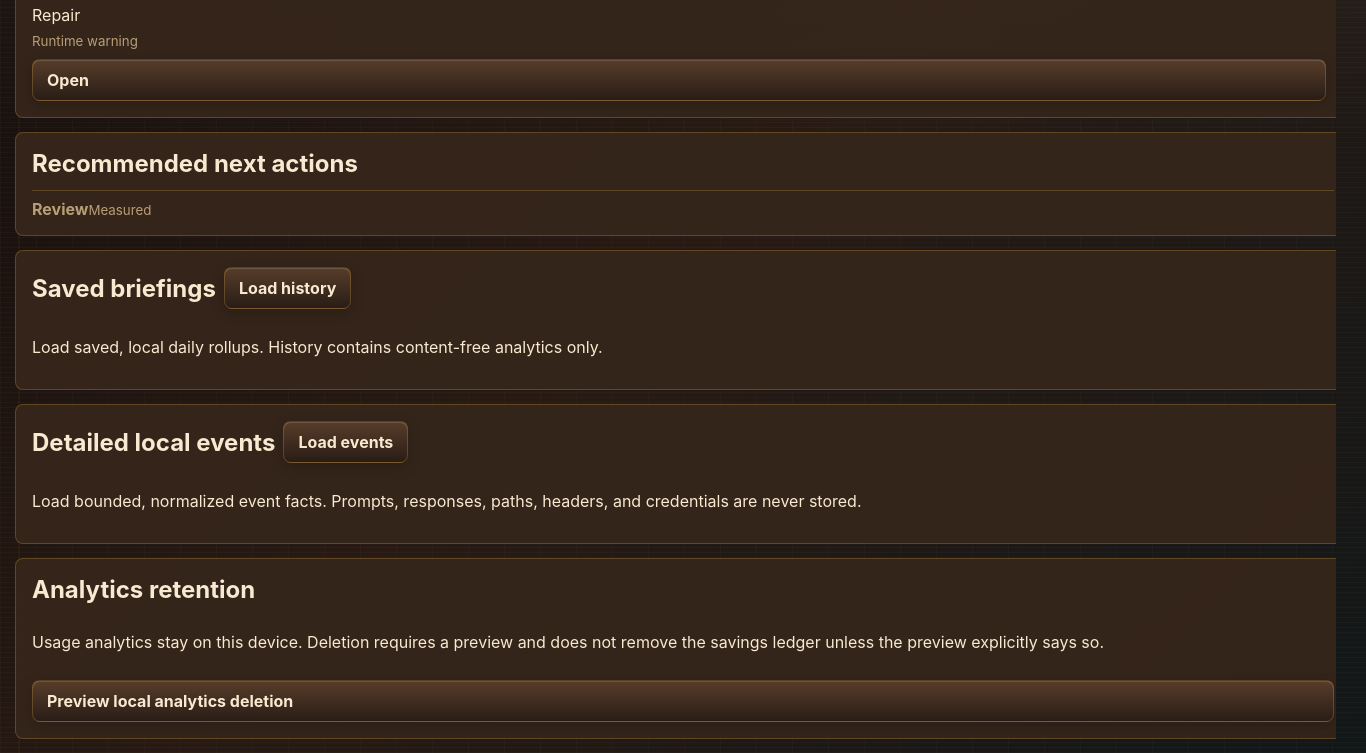
Test: DailyUsageBriefingView scenarios › reports preview and deletion failures without pretending data changed
(page scrolled)
Click the button "Preview local analytics deletion" at (170, 701), box [32, 680, 1334, 722]
(page scrolled)
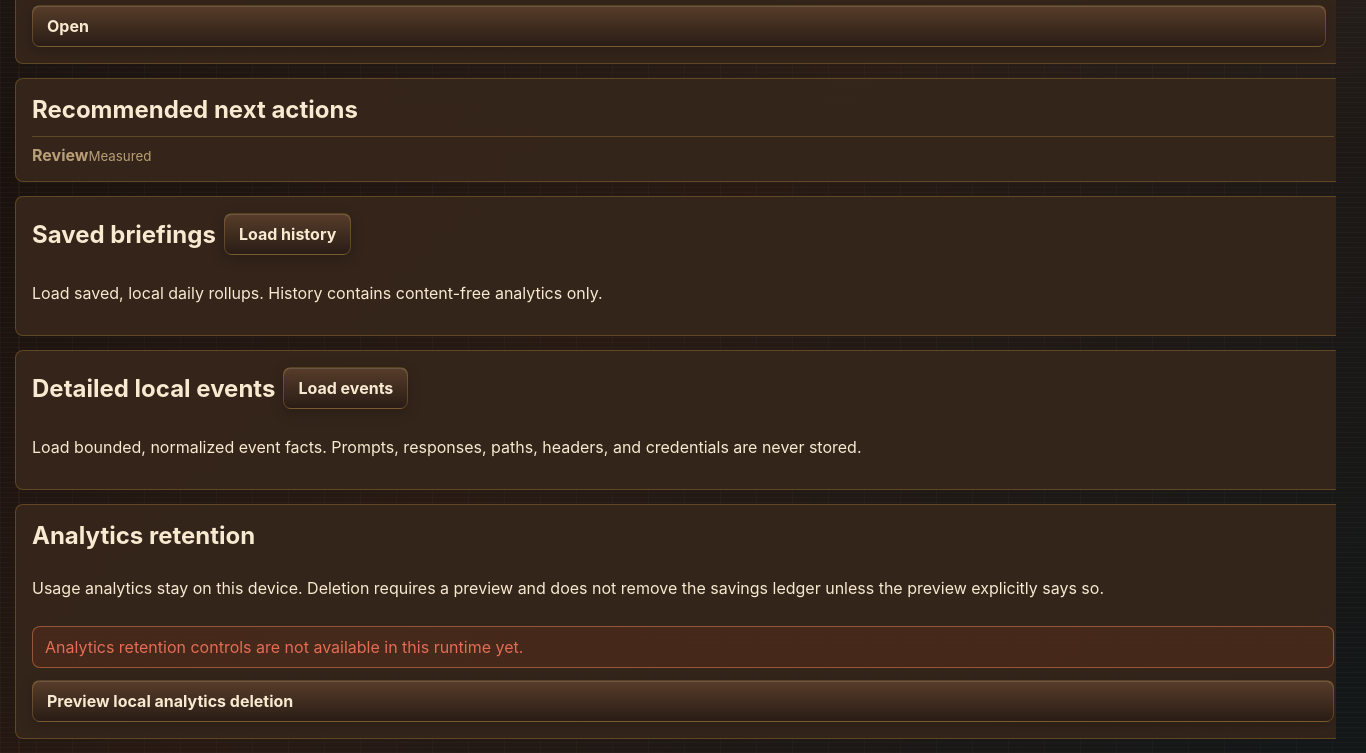
Check: the message shows "retention controls are not available", box [45, 637, 523, 657]
Click the button "Preview local analytics deletion" at (170, 701), box [32, 680, 1334, 722]
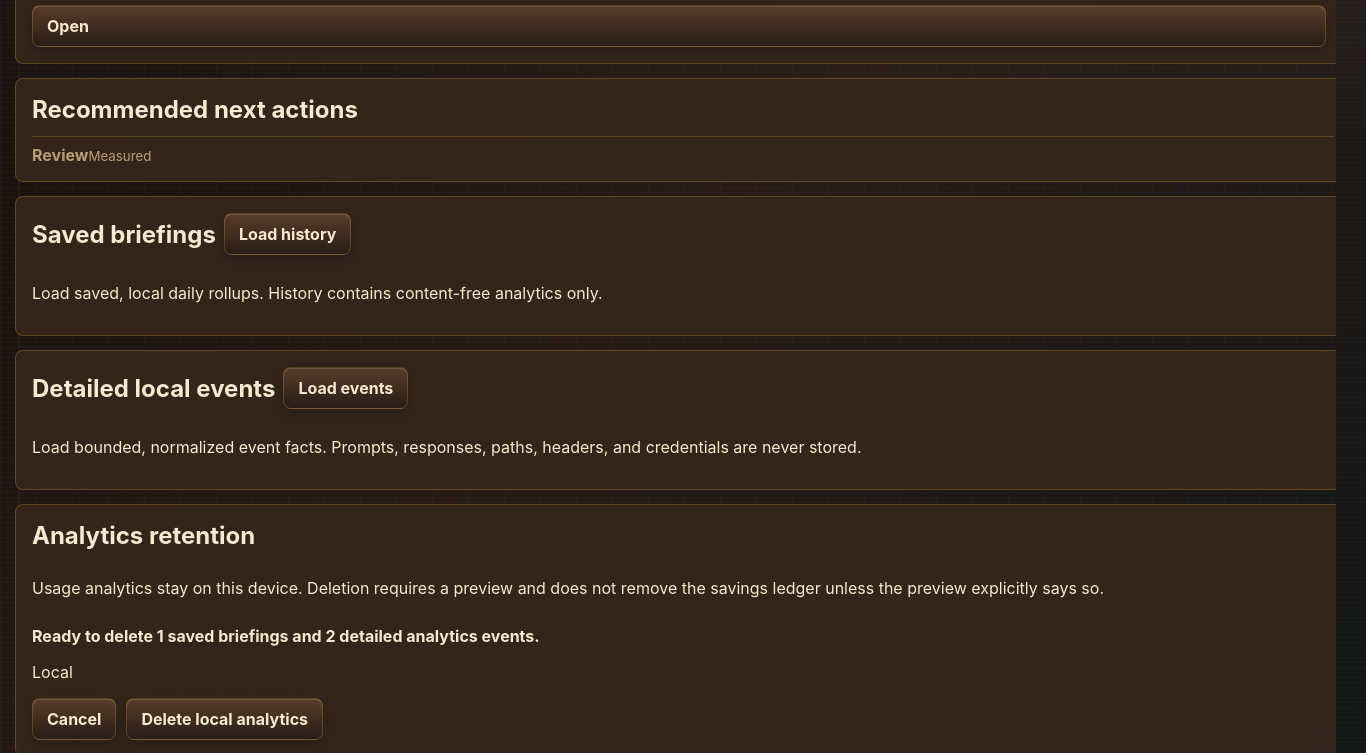
Click the button "Delete local analytics" at (225, 719), box [126, 698, 323, 740]
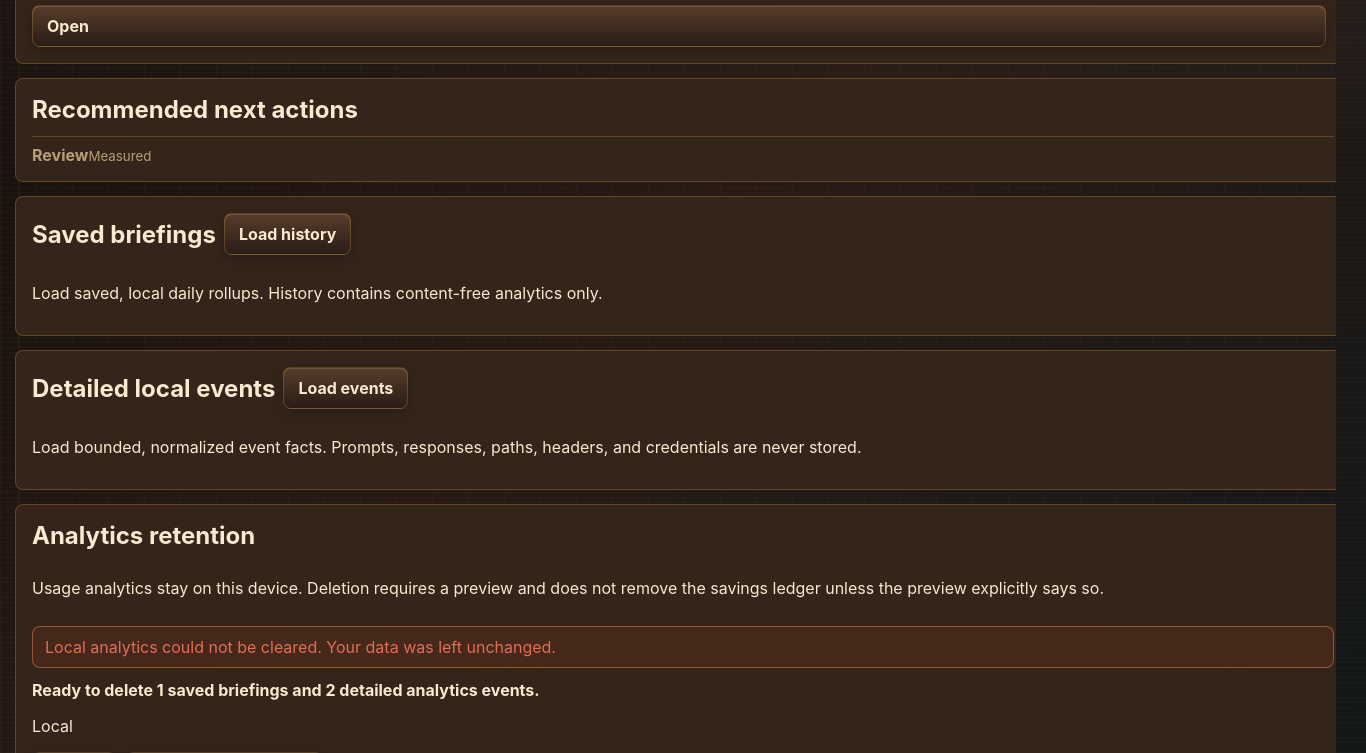
Check: the message shows "data was left unchanged", box [45, 637, 556, 657]
